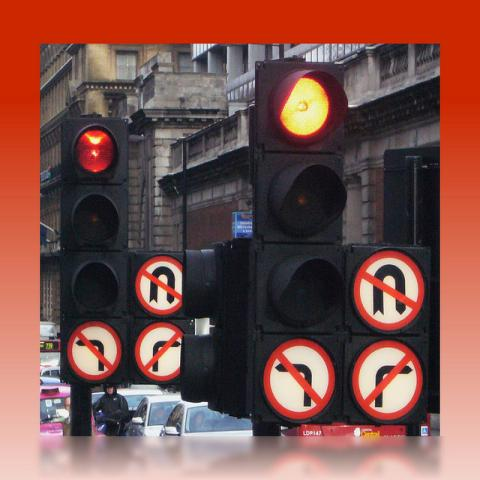car: (160, 400, 252, 436), (38, 384, 98, 438), (130, 393, 180, 437), (116, 389, 168, 423), (40, 366, 58, 377)
